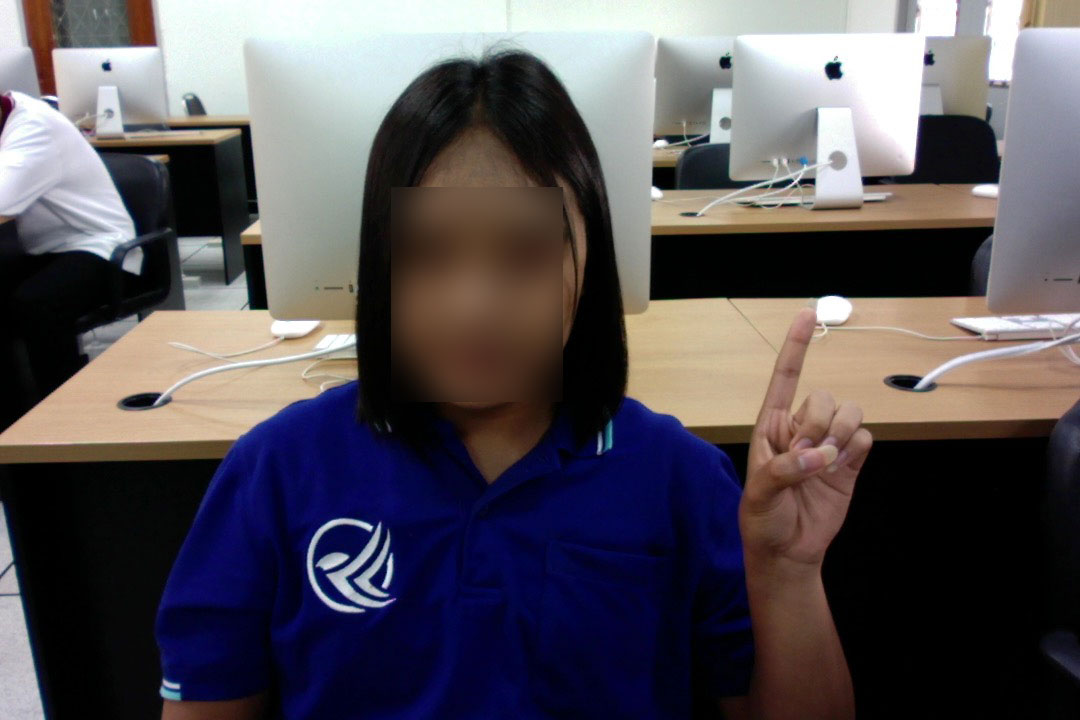dor: (717, 305, 887, 590)
